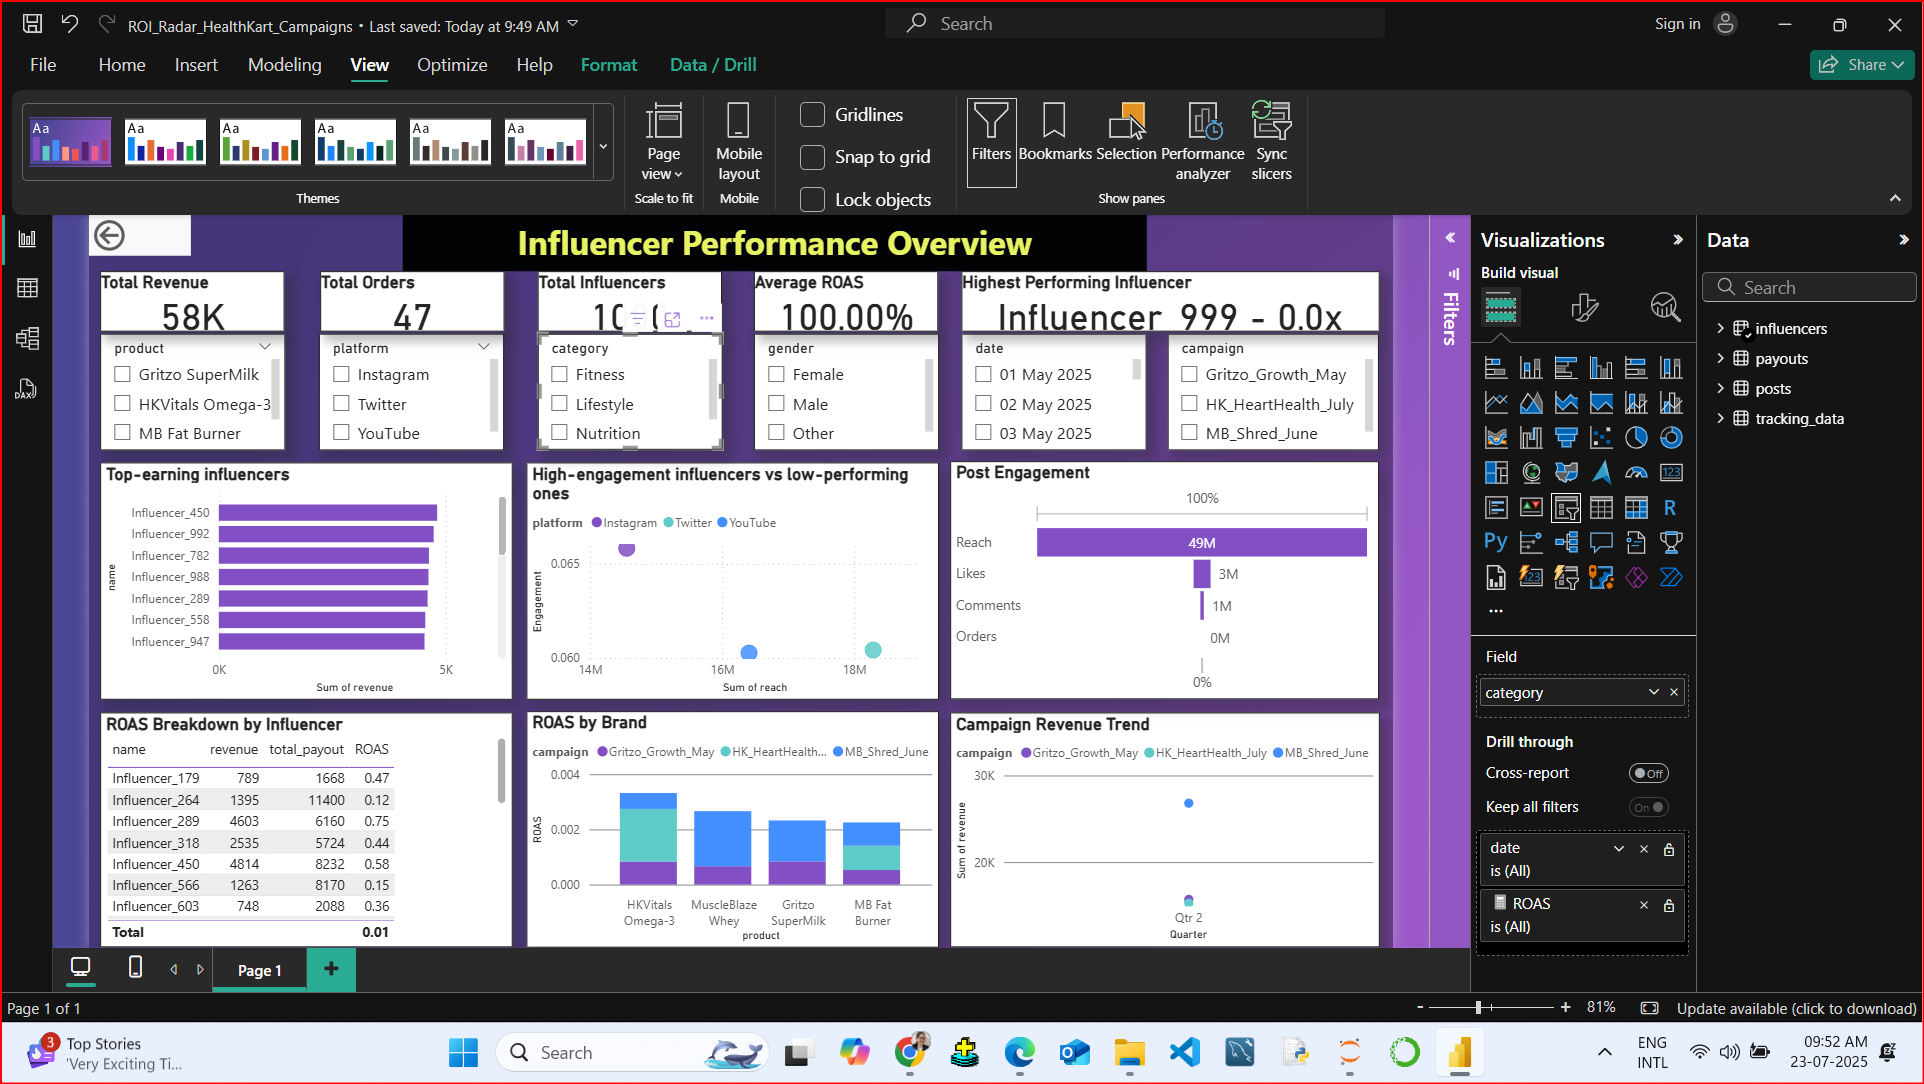

This screenshot's page, from the dashboard's own definition file:
{"tool":"powerbi","page":{"name":"Page 1","canvas":[1280,720],"ordinal":0},"visuals":[{"type":"textbox","box":[307.4,0,730,54.9],"z":0},{"type":"slicer","fields":{"Values":["tracking_data.product"]},"box":[11,116.6,181.6,114.1],"z":1000},{"type":"slicer","fields":{"Values":["influencers.platform"]},"box":[225.8,116.6,181.6,114.1],"z":2000},{"type":"slicer","fields":{"Values":["influencers.category"]},"box":[440.5,116.6,181.6,114.1],"z":3000},{"type":"slicer","fields":{"Values":["influencers.gender"]},"box":[652.8,116.6,181.6,114.1],"z":4000},{"type":"slicer","fields":{"Values":["tracking_data.campaign"]},"box":[1058.9,116.6,207.4,114.1],"z":5000},{"type":"clusteredBarChart","title":"Top-earning influencers","fields":{"Category":["influencers.name"],"Y":["tracking_data.revenue"]},"box":[11,242.9,404.9,233.1],"z":6000},{"type":"scatterChart","title":"High-engagement influencers vs low-performing ones","fields":{"X":["posts.reach"],"Y":["influencers.Engagement"],"Series":["posts.platform"],"Size":["tracking_data.revenue"]},"box":[429.5,242.9,404.9,233.1],"z":7000},{"type":"tableEx","title":"ROAS Breakdown by Influencer","fields":{"Values":["influencers.name","tracking_data.revenue","payouts.total_payout","posts.ROAS"]},"box":[11,488.5,404.8,230.5],"z":8000},{"type":"columnChart","title":"ROAS by Brand","fields":{"Category":["tracking_data.product"],"Y":["posts.ROAS"],"Series":["tracking_data.campaign"]},"box":[429,487.5,404.8,232.3],"z":9000},{"type":"slicer","fields":{"Values":["tracking_data.date"]},"box":[856.4,116.6,181.6,114.1],"z":10000},{"type":"lineChart","title":"Campaign Revenue Trend","fields":{"Category":["tracking_data.date.Variation.Date Hierarchy.Quarter","tracking_data.date.Variation.Date Hierarchy.Month","tracking_data.date.Variation.Date Hierarchy.Day"],"Y":["tracking_data.revenue"],"Series":["tracking_data.campaign"]},"box":[845.3,488.5,421.3,230.5],"z":11000},{"type":"actionButton","box":[0,0,100,40],"z":12000},{"type":"funnel","title":"Post Engagement ","fields":{"Y":["posts.reach","posts.likes","posts.comments","tracking_data.orders"]},"box":[845.3,242.3,420.5,233.8],"z":13000},{"type":"card","title":"Total Revenue","fields":{"Values":["tracking_data.revenue"]},"box":[11,54.9,181.1,59],"z":14000},{"type":"card","title":"Total Orders","fields":{"Values":["tracking_data.orders"]},"box":[226.4,54.9,181.1,59],"z":15000},{"type":"card","title":"Total Influencers","fields":{"Values":["influencers.influencer_id"]},"box":[440.5,54.9,181.1,59],"z":16000},{"type":"card","title":"Average ROAS","fields":{"Values":["posts.ROAS"]},"box":[653.2,54.9,181.1,59],"z":17000},{"type":"card","title":"Highest Performing Influencer","fields":{"Values":["influencers.Top Influencer Display"]},"box":[856.3,54.9,410.3,59],"z":18000}]}

Visuals, with their boxes on the page's 1280x720 design canvas (x1, y1, x2, y2). These are canvas units, not pixel positions in the 1924x1084 screenshot, which may show the page scaled, cropped or inside an application window:
textbox: [left=307, top=0, right=1037, bottom=55]
slicer - tracking_data.product: [left=11, top=117, right=193, bottom=231]
slicer - influencers.platform: [left=226, top=117, right=407, bottom=231]
slicer - influencers.category: [left=440, top=117, right=622, bottom=231]
slicer - influencers.gender: [left=653, top=117, right=834, bottom=231]
slicer - tracking_data.campaign: [left=1059, top=117, right=1266, bottom=231]
"Top-earning influencers" clusteredBarChart: [left=11, top=243, right=416, bottom=476]
"High-engagement influencers vs low-performing ones" scatterChart: [left=430, top=243, right=834, bottom=476]
"ROAS Breakdown by Influencer" tableEx: [left=11, top=488, right=416, bottom=719]
"ROAS by Brand" columnChart: [left=429, top=488, right=834, bottom=720]
slicer - tracking_data.date: [left=856, top=117, right=1038, bottom=231]
"Campaign Revenue Trend" lineChart: [left=845, top=488, right=1267, bottom=719]
actionButton: [left=0, top=0, right=100, bottom=40]
"Post Engagement " funnel: [left=845, top=242, right=1266, bottom=476]
"Total Revenue" card: [left=11, top=55, right=192, bottom=114]
"Total Orders" card: [left=226, top=55, right=408, bottom=114]
"Total Influencers" card: [left=440, top=55, right=622, bottom=114]
"Average ROAS" card: [left=653, top=55, right=834, bottom=114]
"Highest Performing Influencer" card: [left=856, top=55, right=1267, bottom=114]
